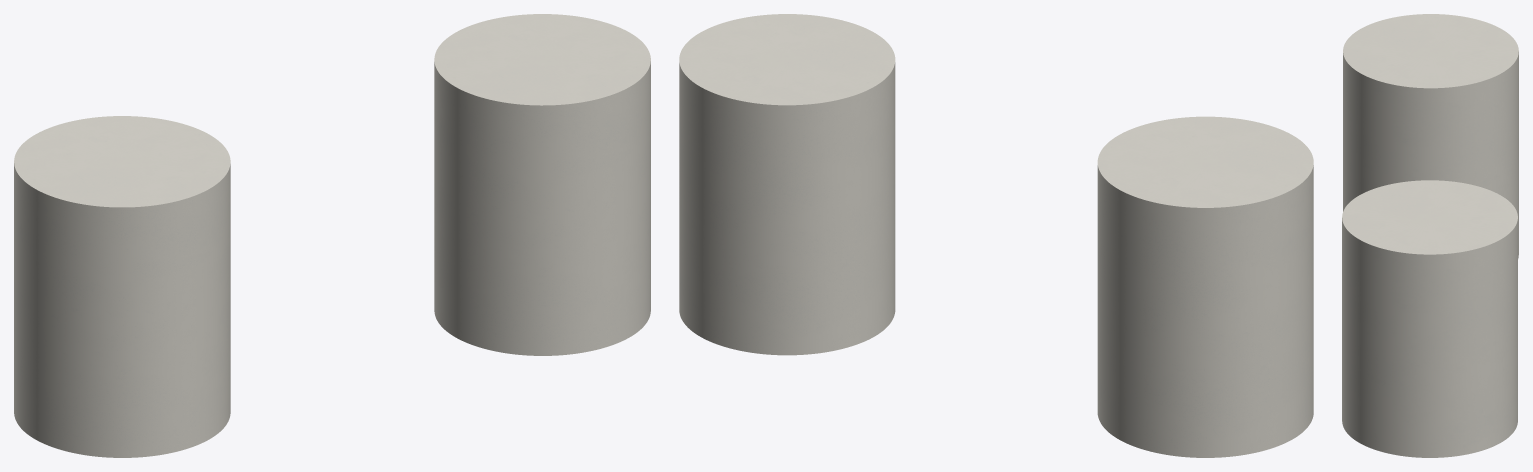
Rendered from pale_danish_standard_stream.glb.
3 renders of one model, left to right at view 1: azimuth 30°, elevation 25°; view 2: azimuth 150°, elevation 25°; view 3: azimuth 270°, elevation 25°, orthographic. The views are drawn at different scales.
Parts seen in each view (by area): view 1: stream; view 2: stream; view 3: stream.
Boxes of the visible parts, <box> form: stream: <box>14,14,650,457</box>; stream: <box>679,14,1313,457</box>; stream: <box>1342,14,1518,457</box>.
Size of the model in its own units: 6.18 by 2.44 by 1.92.
Materials: 1 (1 with a texture image).
